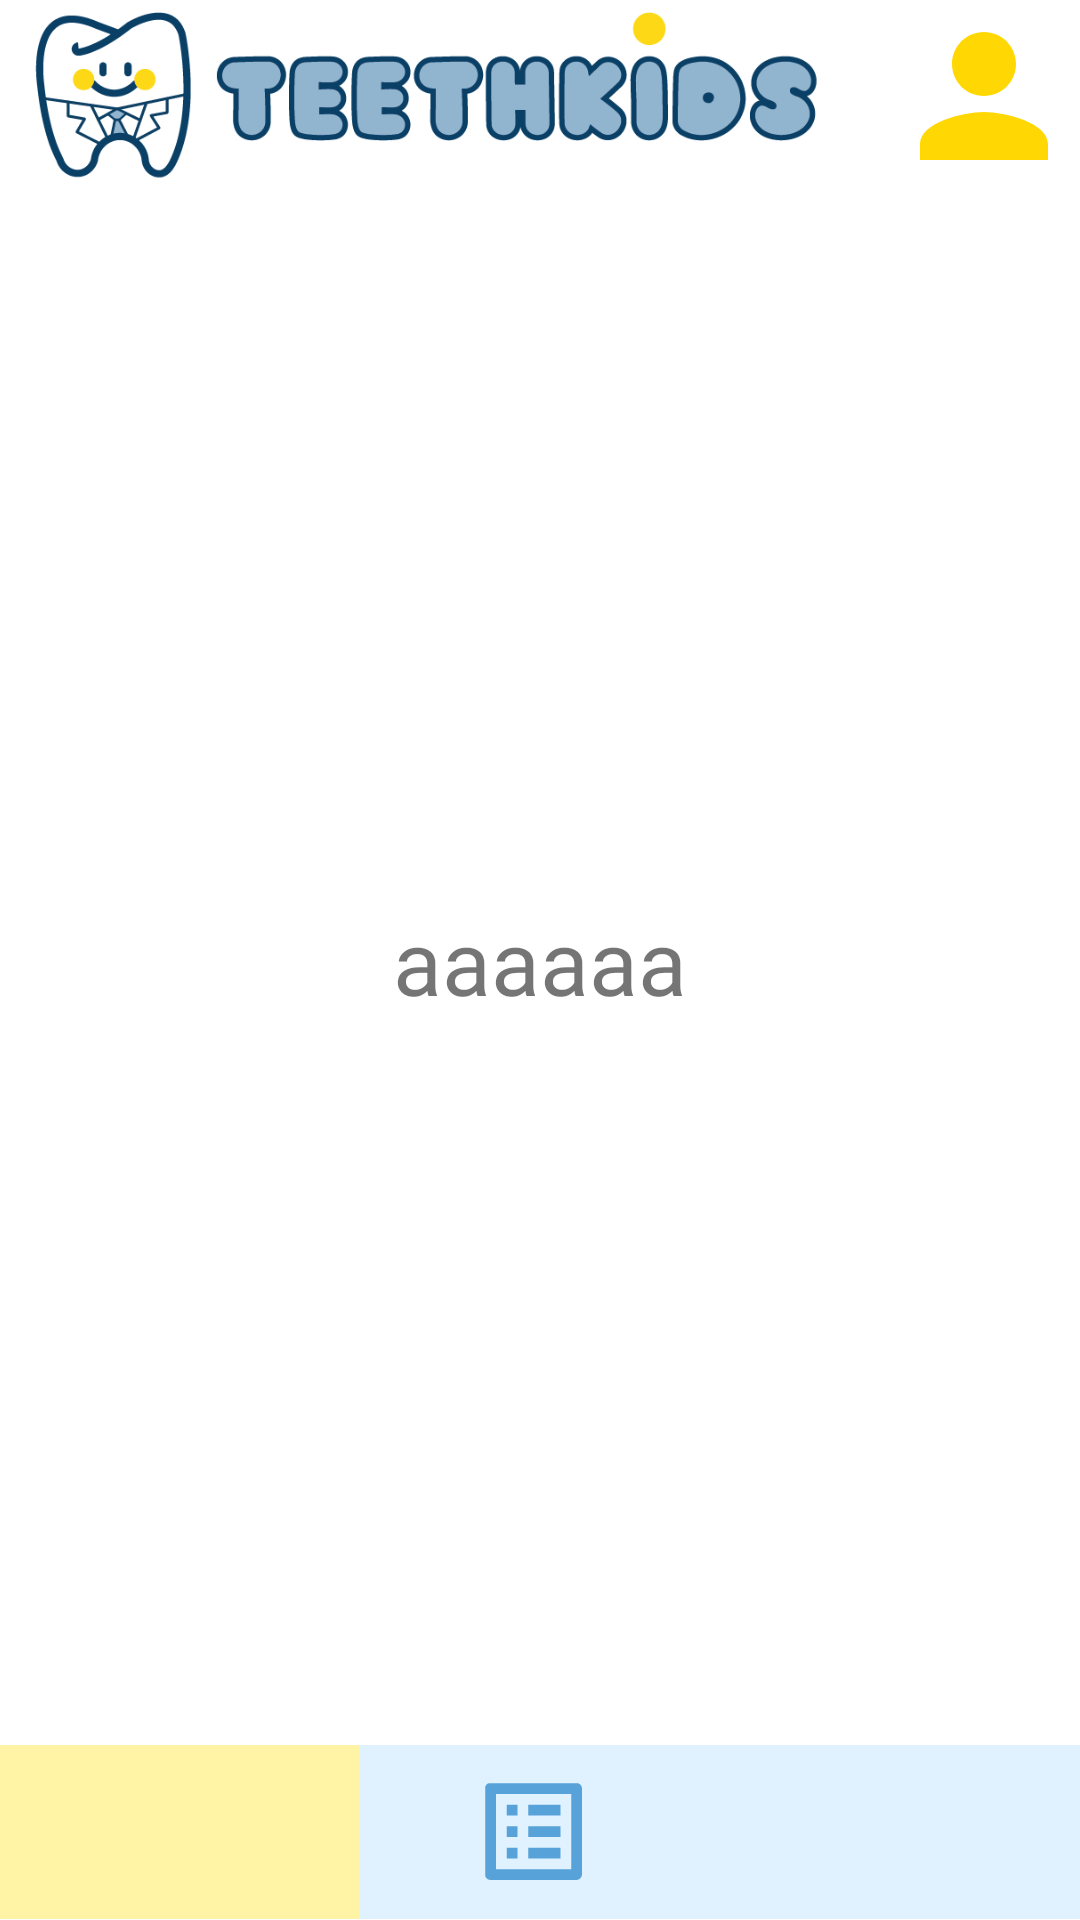

Icons on this 1080px x 1920px Android screen, each with its box as rect(x1, y1, x2, y2):
perfil: rect(920, 32, 1048, 160)
